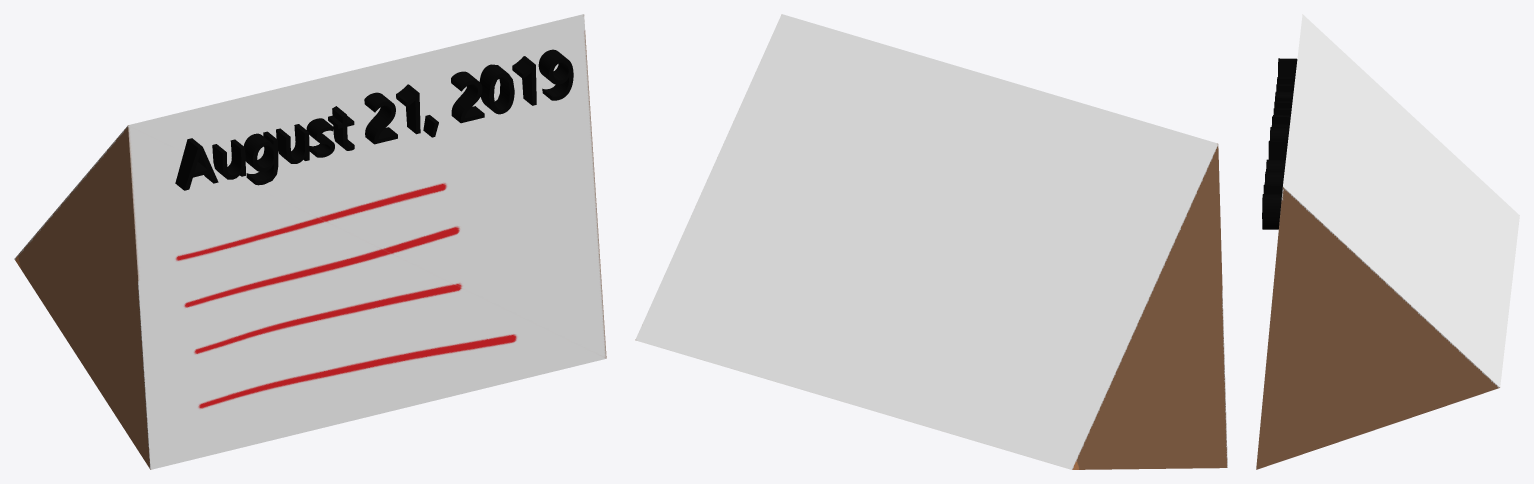
File: Calendar 1.fbx
3 views of the same model, side by side, from view 1: azimuth 30°, elevation 25°; view 2: azimuth 150°, elevation 25°; view 3: azimuth 270°, elevation 25° (orthographic). The views are drawn at different scales.
Visible parts, largest first — view 1: root, node_id88; view 2: root; view 3: root, node_id88.
Boxes of the visible parts, bbox=[...] form: root: bbox=[14, 14, 606, 469]; node_id88: bbox=[175, 49, 573, 190]; root: bbox=[635, 14, 1227, 469]; root: bbox=[1256, 14, 1519, 469]; node_id88: bbox=[1262, 58, 1297, 229].
Bounding box in the file's own units: 0.3071 × 0.2208 × 0.1817.
2 materials, 1 textured.
